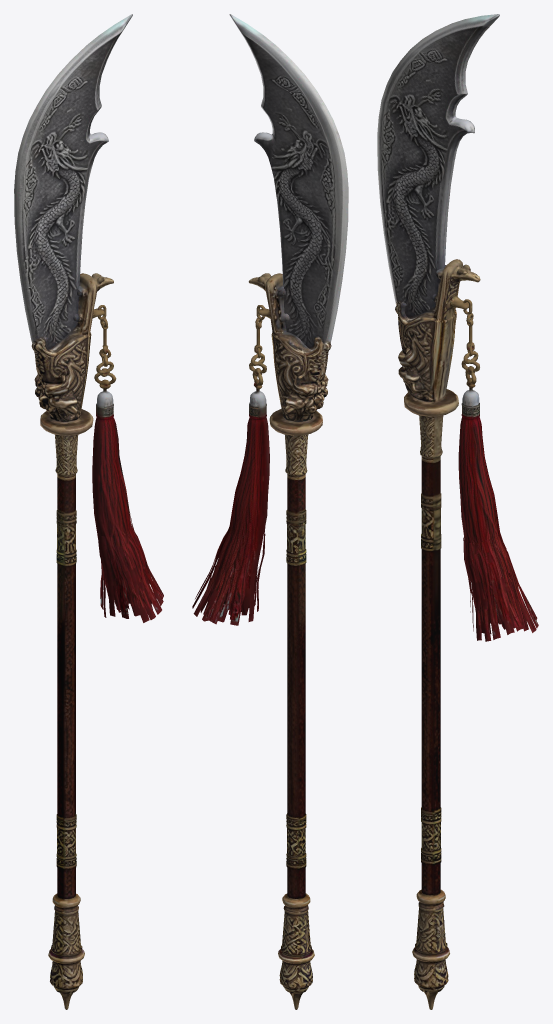
Rendered from guandao.glb.
3 renders of one model, left to right at view 1: azimuth 30°, elevation 25°; view 2: azimuth 150°, elevation 25°; view 3: azimuth 330°, elevation 25°, orthographic. The views are drawn at different scales.
Visible parts, largest first — view 1: aa7b27fd_a750_4db8_b22c_fa763bfd8015; view 2: aa7b27fd_a750_4db8_b22c_fa763bfd8015; view 3: aa7b27fd_a750_4db8_b22c_fa763bfd8015.
Part boxes in pixels (left/top/right/bottom): aa7b27fd_a750_4db8_b22c_fa763bfd8015: left=14, top=14, right=163, bottom=1009; aa7b27fd_a750_4db8_b22c_fa763bfd8015: left=192, top=14, right=348, bottom=1009; aa7b27fd_a750_4db8_b22c_fa763bfd8015: left=377, top=14, right=538, bottom=1009.
Size of the model in its own units: 0.1616 by 0.9995 by 0.0708.
1 material, 1 textured.
